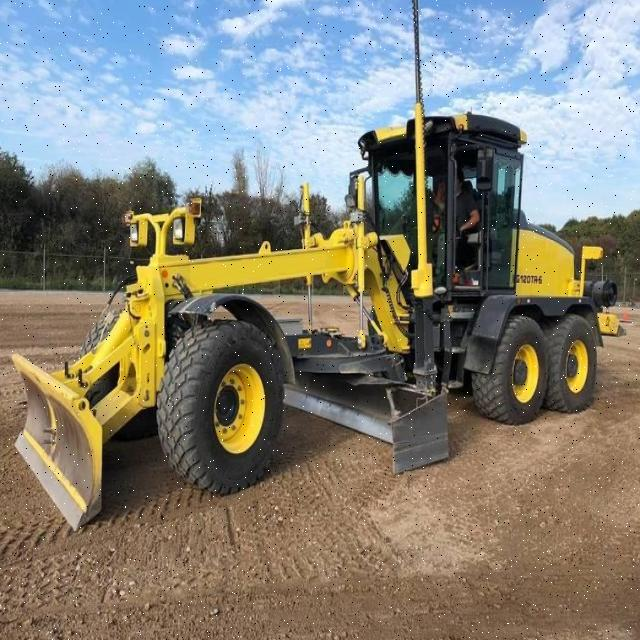Grader: (9, 94, 618, 502)
